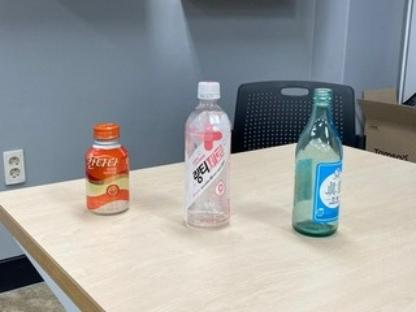Glass Bottle: (291, 86, 344, 239)
Others: (84, 119, 130, 217)
Plastic Bottle: (184, 77, 232, 231)
